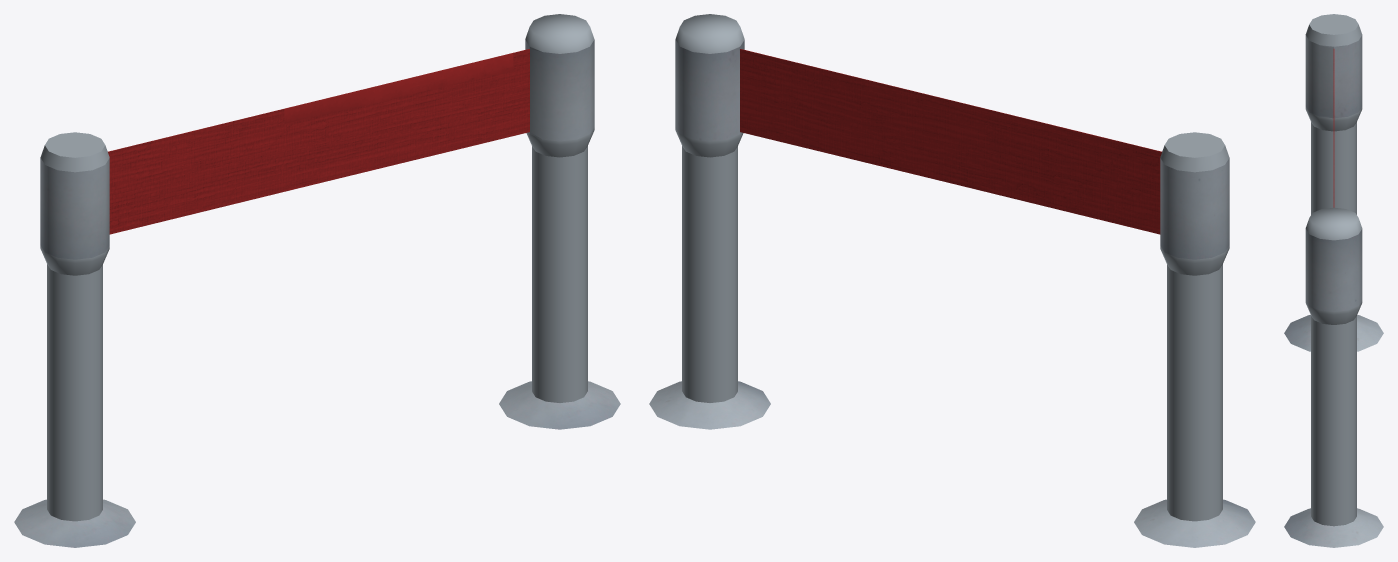
The model's file is blocker.FBX.
3 renders of one model, left to right at view 1: azimuth 30°, elevation 25°; view 2: azimuth 150°, elevation 25°; view 3: azimuth 270°, elevation 25°, orthographic. The views are drawn at different scales.
Parts seen in each view (by area): view 1: Cylinder001; view 2: Cylinder001; view 3: Cylinder001.
Part boxes in pixels (box(x1,y1,x2,y2)): Cylinder001: box(14, 14, 620, 547); Cylinder001: box(649, 14, 1255, 547); Cylinder001: box(1284, 14, 1383, 547).
Size of the model in its own units: 49.15 by 30 by 8.79.
